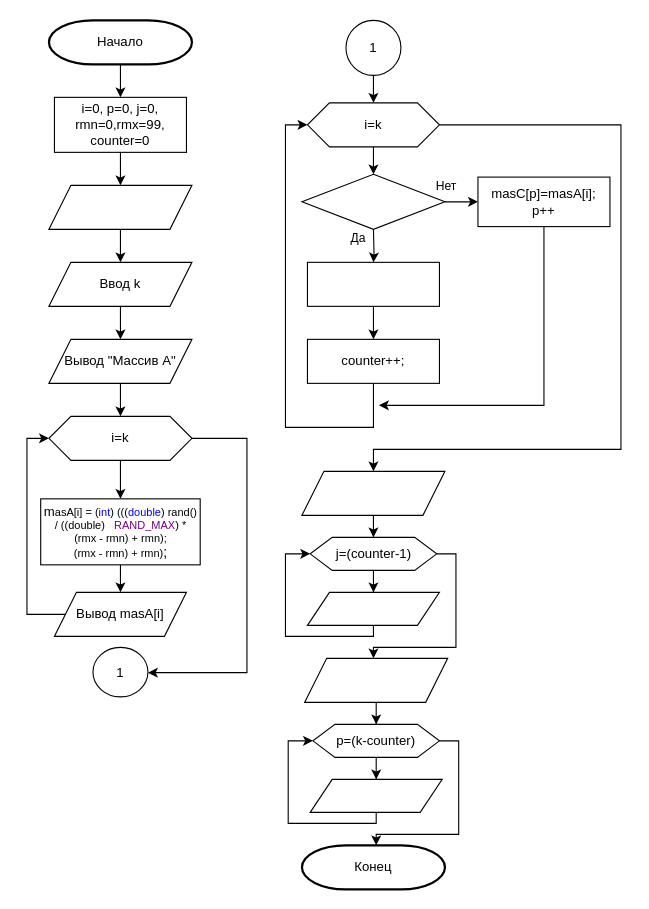
The diagram is 649 pixels wide and 909 high, and some of its shapes have lost their labels. Each missing label, with the box of its shape:
masA[i]<=9 ?: (301, 173, 445, 229)
masB[j]=mas[i]; j++: (306, 261, 439, 306)
Вывод "Введите размер массива": (48, 184, 192, 229)
Вывод "Массив C": (304, 657, 448, 702)
Вывод "Массив В": (301, 470, 445, 515)
Вывод masB[j]: (306, 591, 439, 625)
Вывод masC[p]: (309, 778, 442, 812)
